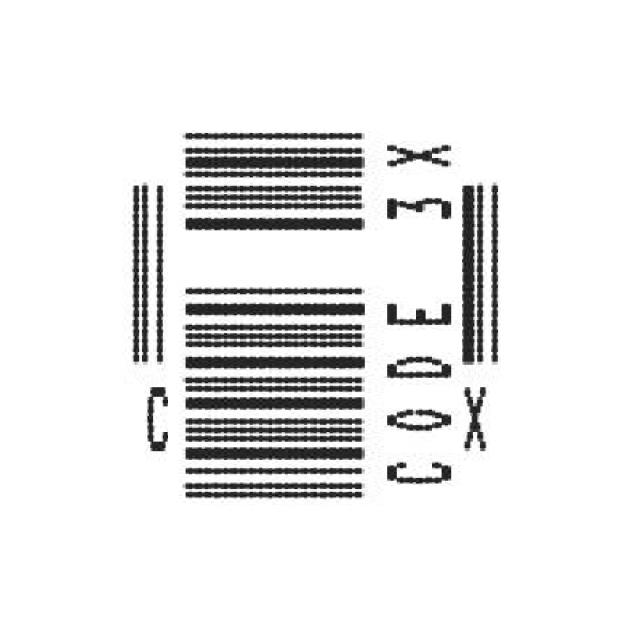Barkod: (146, 146, 484, 484)
